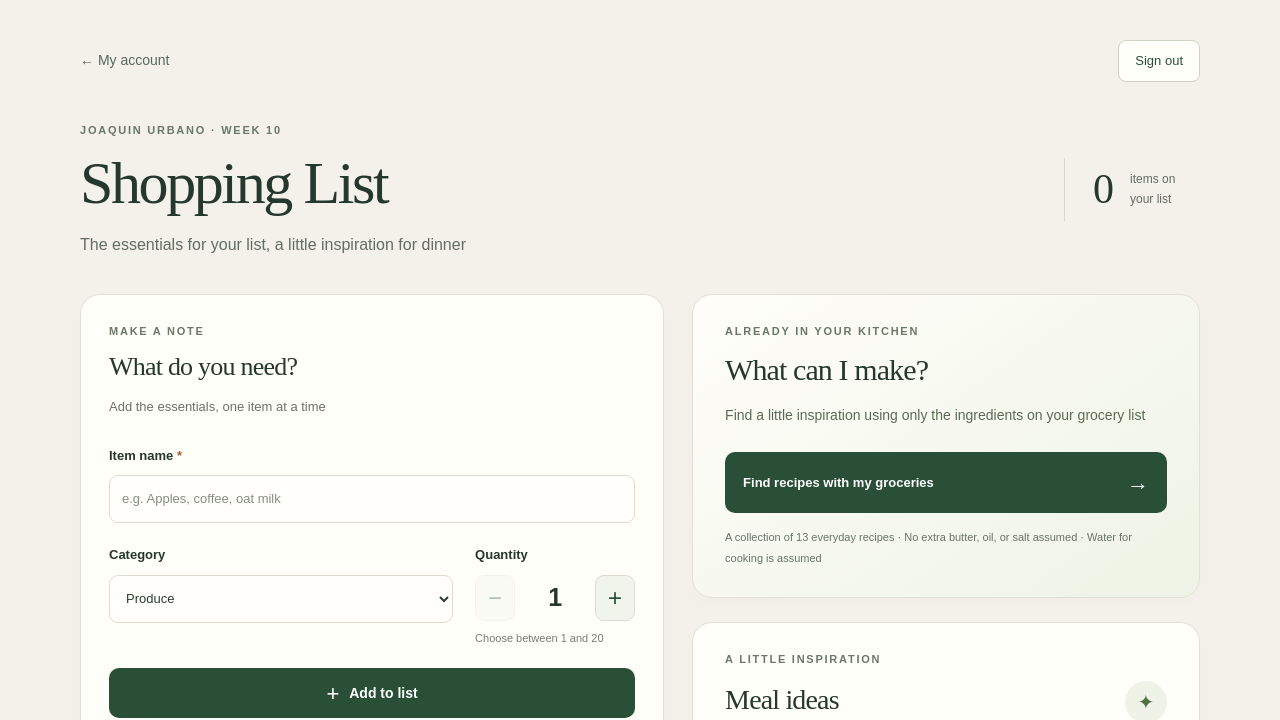
Test: a rejected save preserves the form and a retry saves only once
Later steps or results of the test are not shown.
Type "Milk" into the field labelled "Item name *" at (372, 499), box [109, 475, 635, 523]
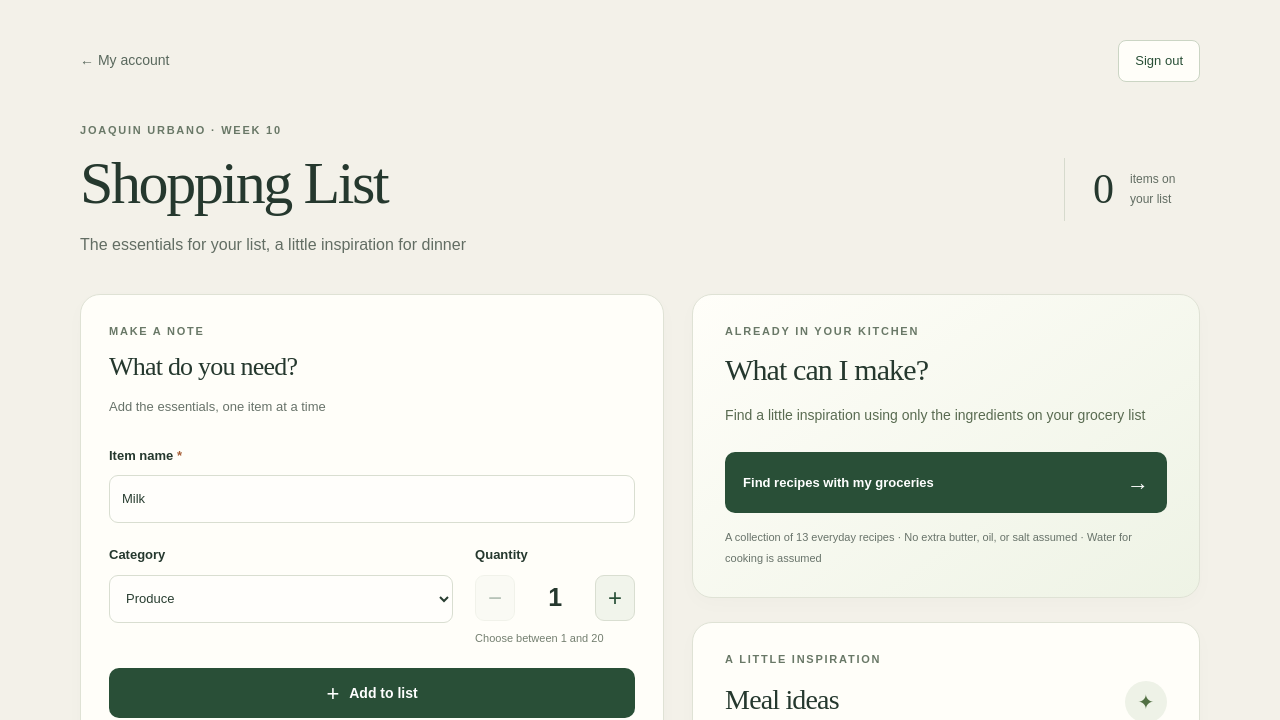
Select "Dairy" in the dropdown labelled "Category" at (281, 599), box [109, 575, 453, 623]
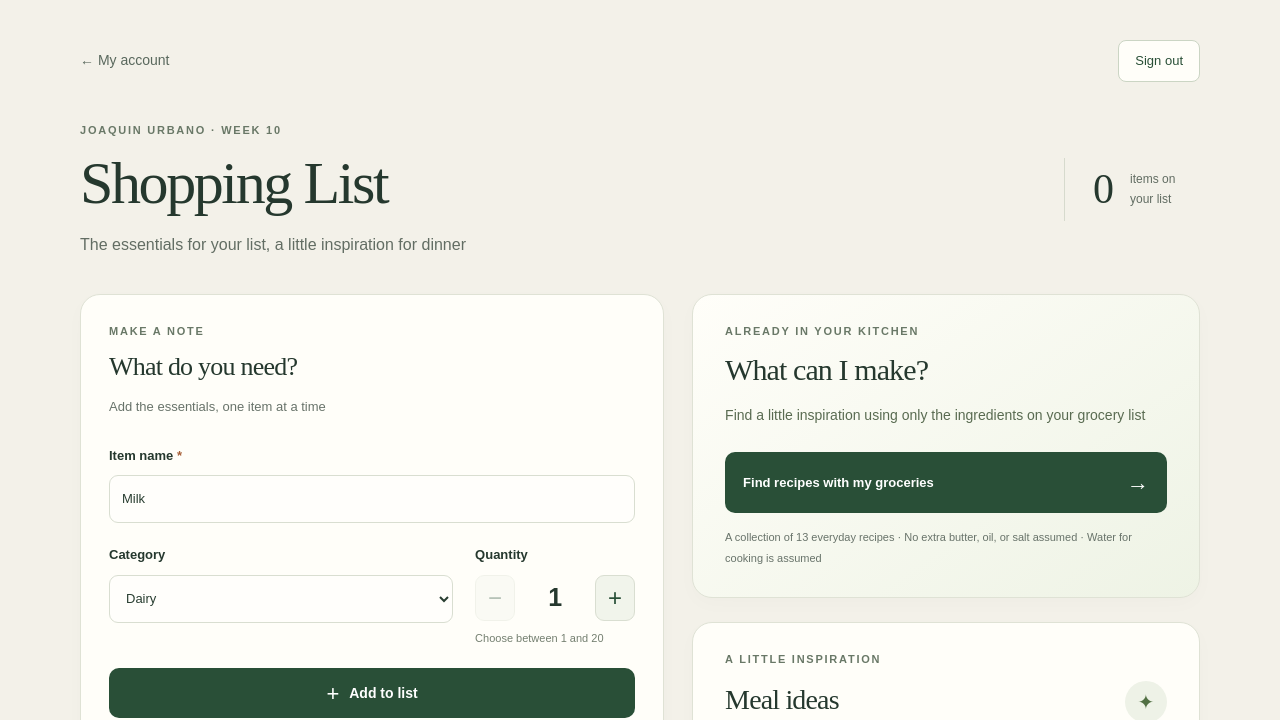
Click the button "+ Add to list" at (372, 693), box [109, 668, 635, 718]
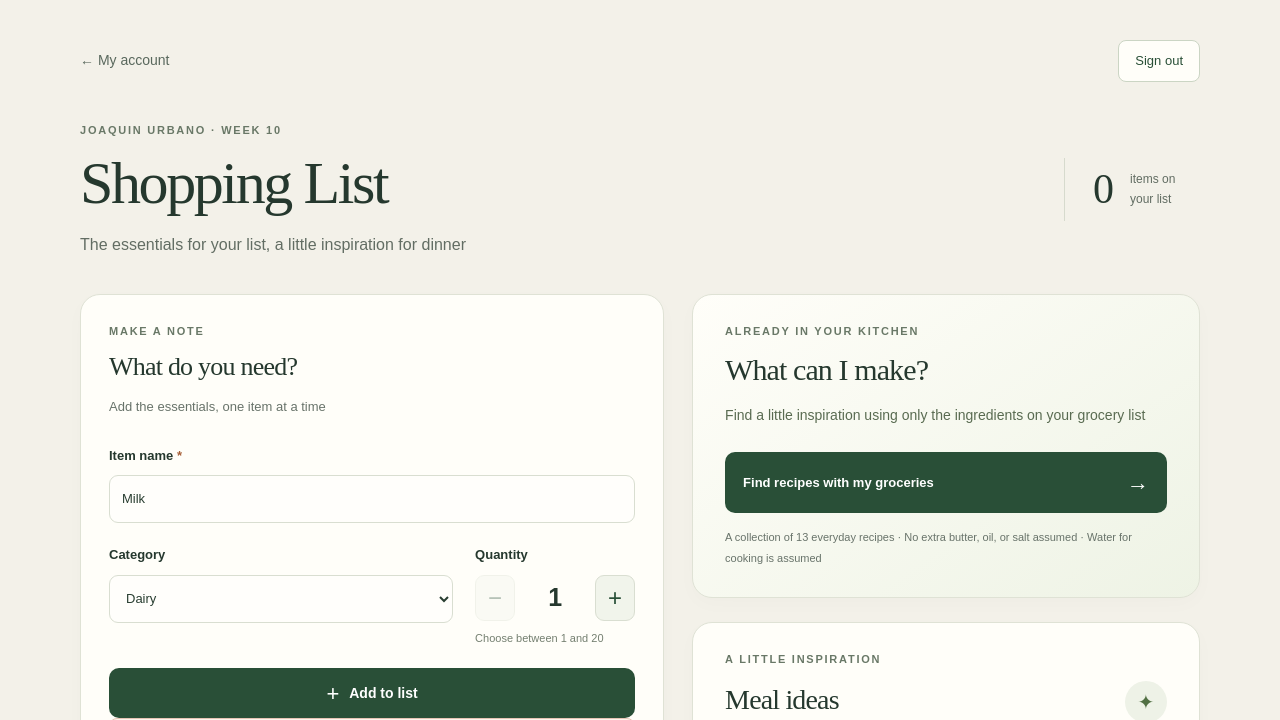
Check: the text "Milk added to your list" is not shown
Click the button "+ Add to list" at (372, 693), box [109, 668, 635, 718]
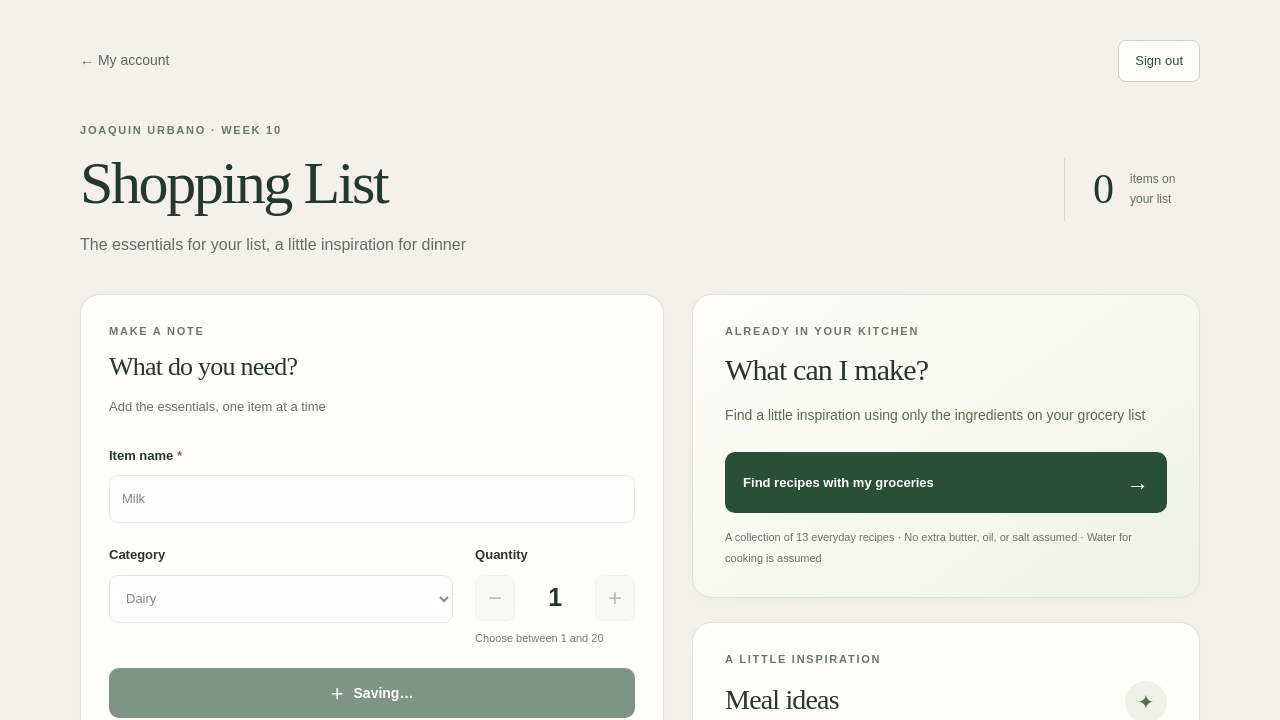
Click the button named "Add to list" at (372, 693), box [109, 668, 635, 718]
(page scrolled)
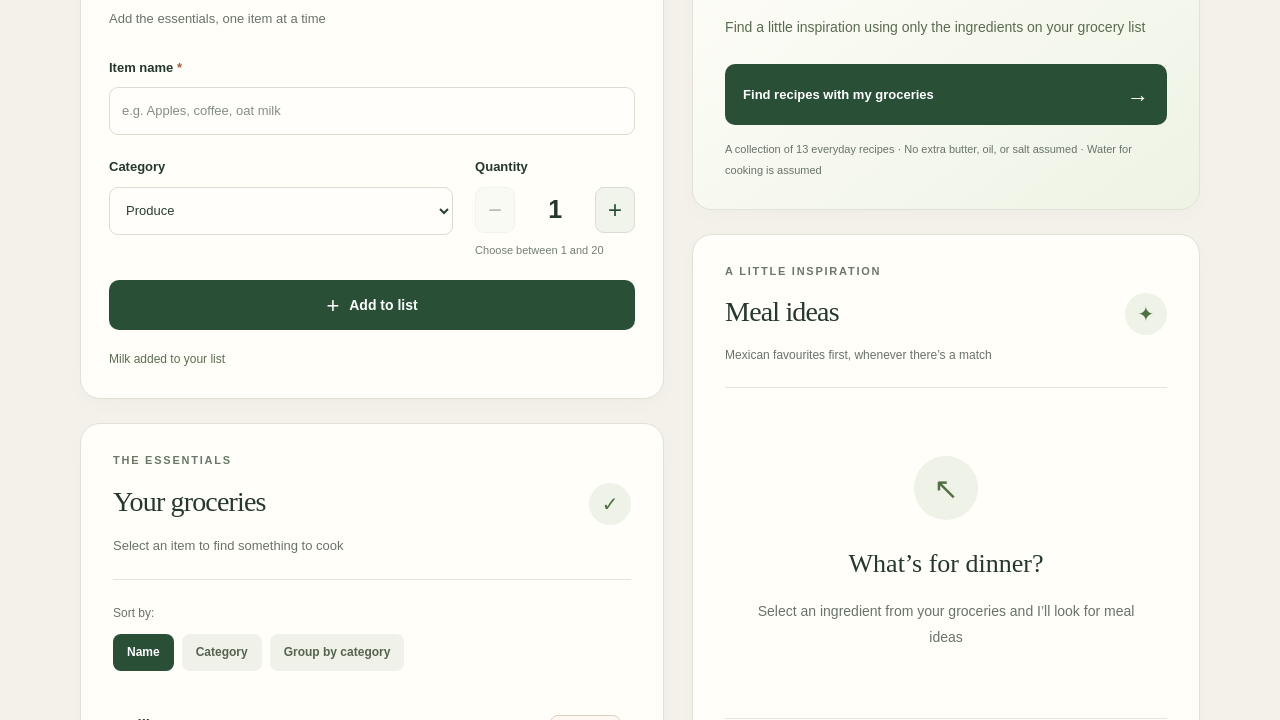
Check: the text "Milk added to your list" is shown, box [109, 352, 225, 366]
